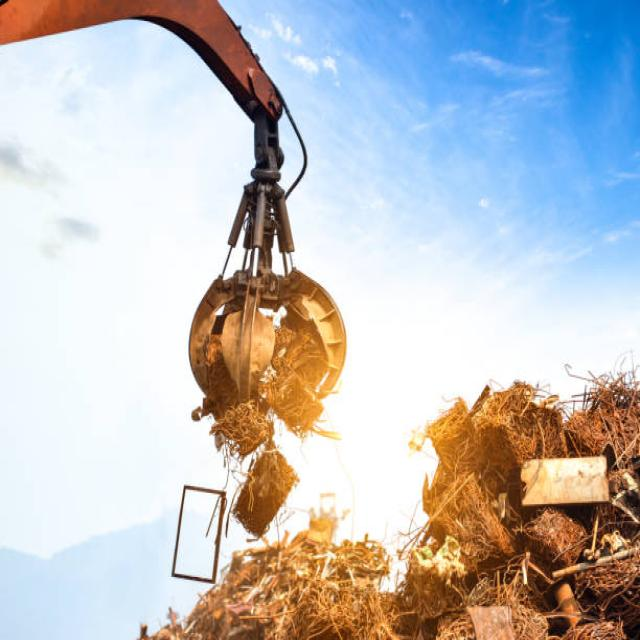trash: (137, 368, 604, 640)
